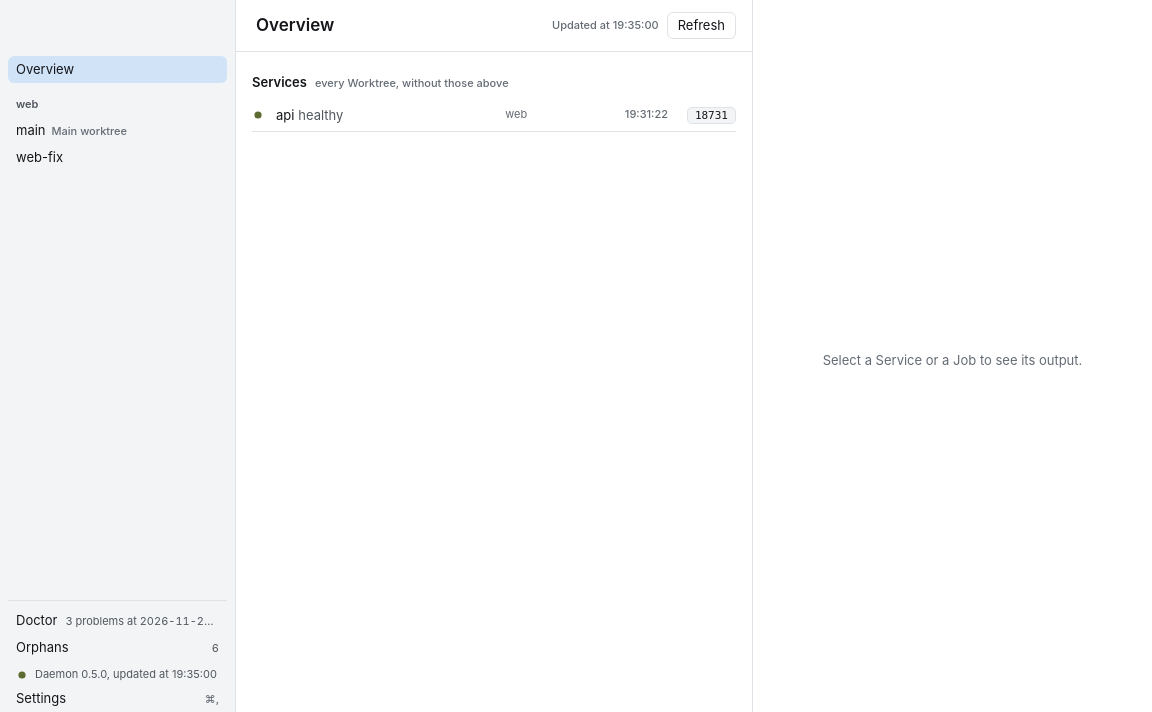
Test case: the Doctor screen › lists the checks of the recorded document, problems first
Later steps or results of the test are not shown.
What coordinates should you click on to do the following:
click the button "Doctor 3 problems at 2026-11-25 18:58"
I would click on:
 (118, 621)
Its box is [8,607,227,634].
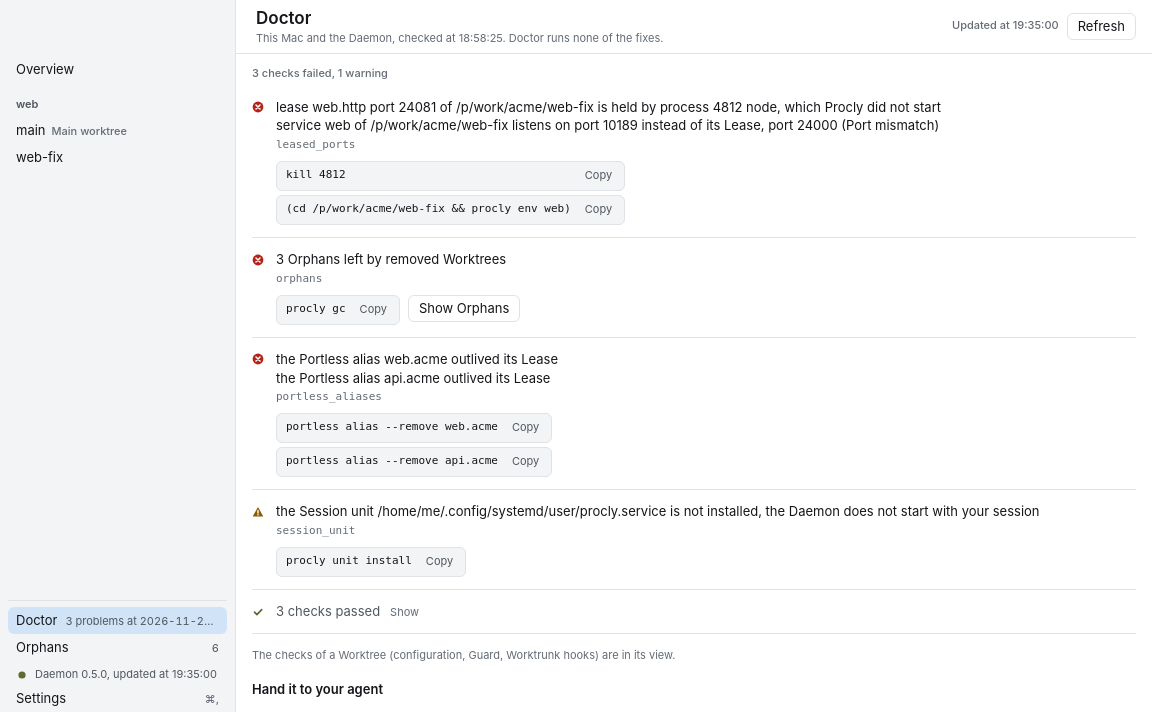
Expected: the text "leased_ports" is shown, [276,138,356,151]
